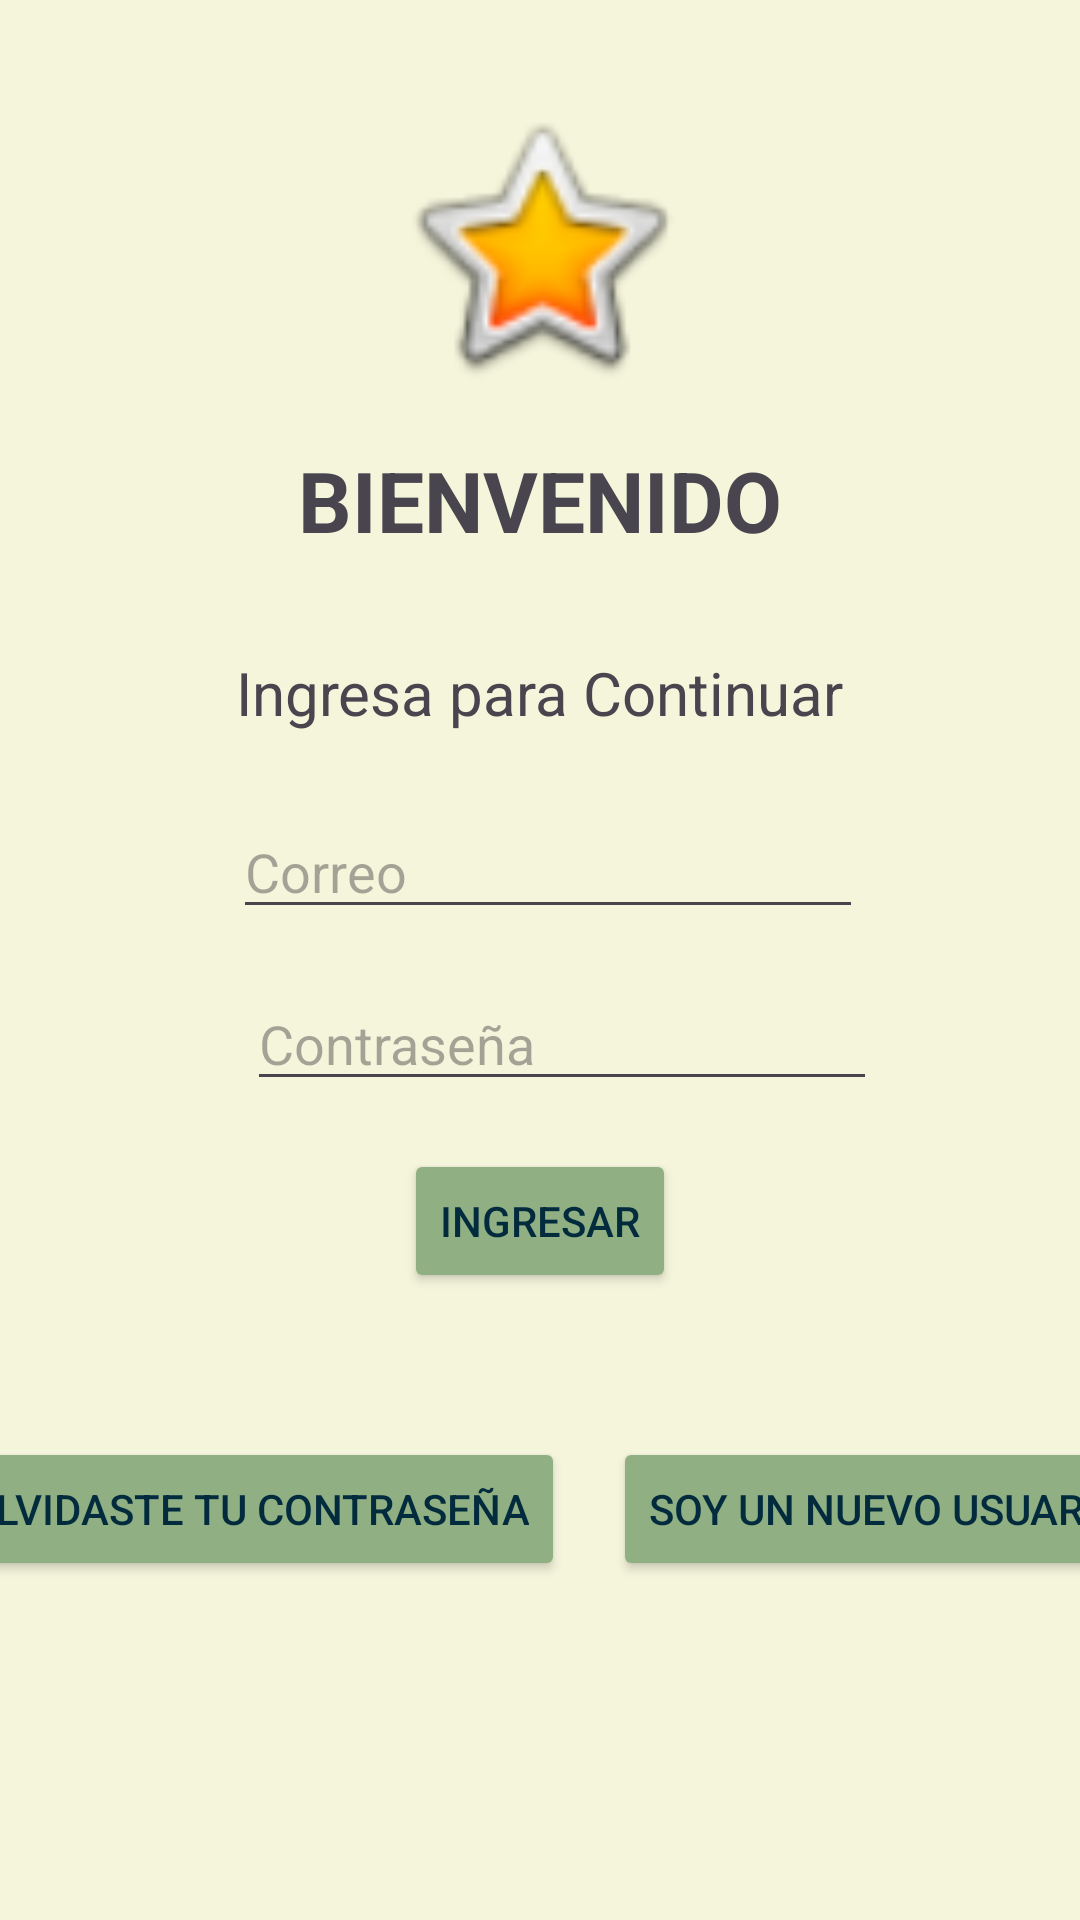

Locate icon controls on the screen. Image size 1080*1920, boxes as (x1, y1, x2, y2).
star on: (417, 126, 668, 370)
